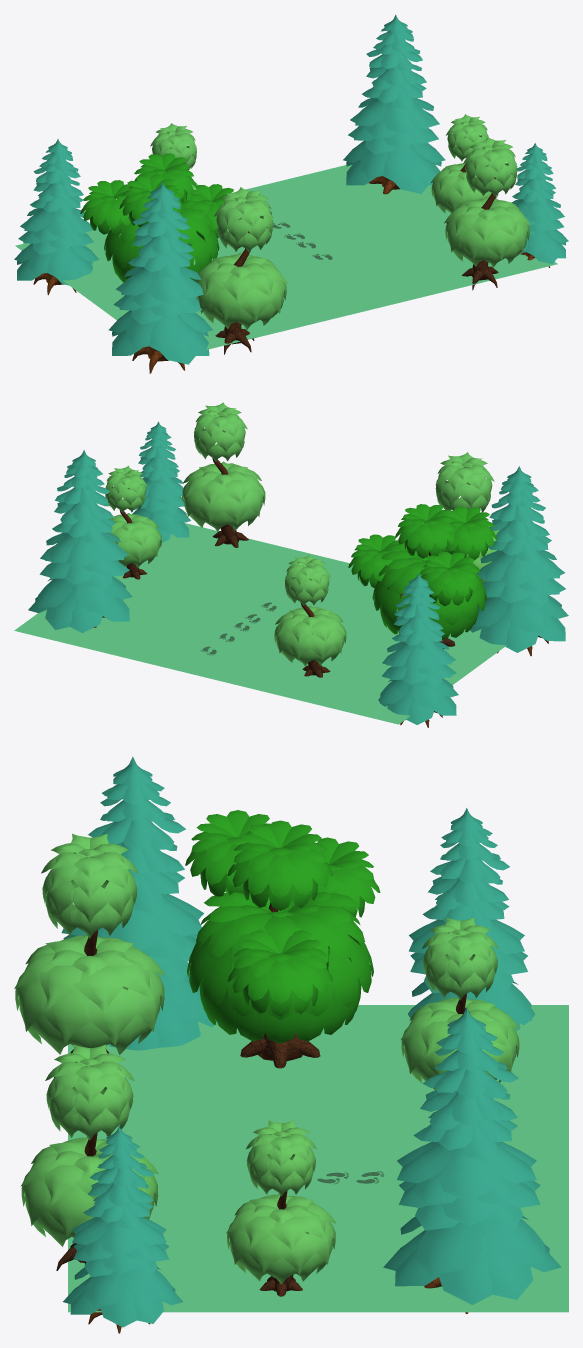
3 renders of one model, top to bottom at view 1: azimuth 30°, elevation 25°; view 2: azimuth 150°, elevation 25°; view 3: azimuth 270°, elevation 25°, orthographic. The views are drawn at different scales.
Parts seen in each view (by area): view 1: Ground, TreeSpruce, TreeSpruce_2, TreeOak_1, Leaves7_1, Leaves7_2, TreeSpruce_1, TreeSpruce_3, Leaves7_3, Leaves7; view 2: Ground, TreeOak_1, TreeSpruce, TreeSpruce_2, TreeSpruce_1, Leaves7_2, Leaves7, TreeSpruce_3, Leaves7_3, Leaves7_1; view 3: Ground, TreeOak_1, TreeSpruce_2, Leaves7_1, TreeSpruce, TreeSpruce_3, Leaves7_2, Leaves7_3, TreeSpruce_1, Leaves7.
Part boxes in pixels (<box>): Ground: <box>15,164,557,349</box>; TreeSpruce: <box>108,181,213,373</box>; TreeSpruce_2: <box>343,14,445,194</box>; TreeOak_1: <box>80,153,233,282</box>; Leaves7_1: <box>194,187,287,354</box>; Leaves7_2: <box>444,137,530,290</box>; TreeSpruce_1: <box>14,139,99,295</box>; TreeSpruce_3: <box>505,143,568,267</box>; Leaves7_3: <box>431,114,498,223</box>; Leaves7: <box>150,123,197,189</box>; Ground: <box>14,523,506,724</box>; TreeOak_1: <box>348,504,497,648</box>; TreeSpruce: <box>470,466,568,656</box>; TreeSpruce_2: <box>28,450,132,632</box>; TreeSpruce_1: <box>378,573,458,727</box>; Leaves7_2: <box>182,402,265,547</box>; Leaves7: <box>274,554,346,677</box>; TreeSpruce_3: <box>132,421,190,542</box>; Leaves7_3: <box>105,465,161,579</box>; Leaves7_1: <box>435,452,499,605</box>; Ground: <box>68,1005,568,1312</box>; TreeOak_1: <box>185,810,380,1068</box>; TreeSpruce_2: <box>383,1007,561,1313</box>; Leaves7_1: <box>14,833,165,1077</box>; TreeSpruce: <box>61,756,216,1050</box>; TreeSpruce_3: <box>63,1126,182,1333</box>; Leaves7_2: <box>20,1044,158,1270</box>; Leaves7_3: <box>226,1120,336,1296</box>; TreeSpruce_1: <box>408,808,535,1030</box>; Leaves7: <box>401,917,519,1090</box>.
Size of the model in its own units: 5.17 by 2.09 by 3.41.
Materials: 7 (2 with a texture image).
